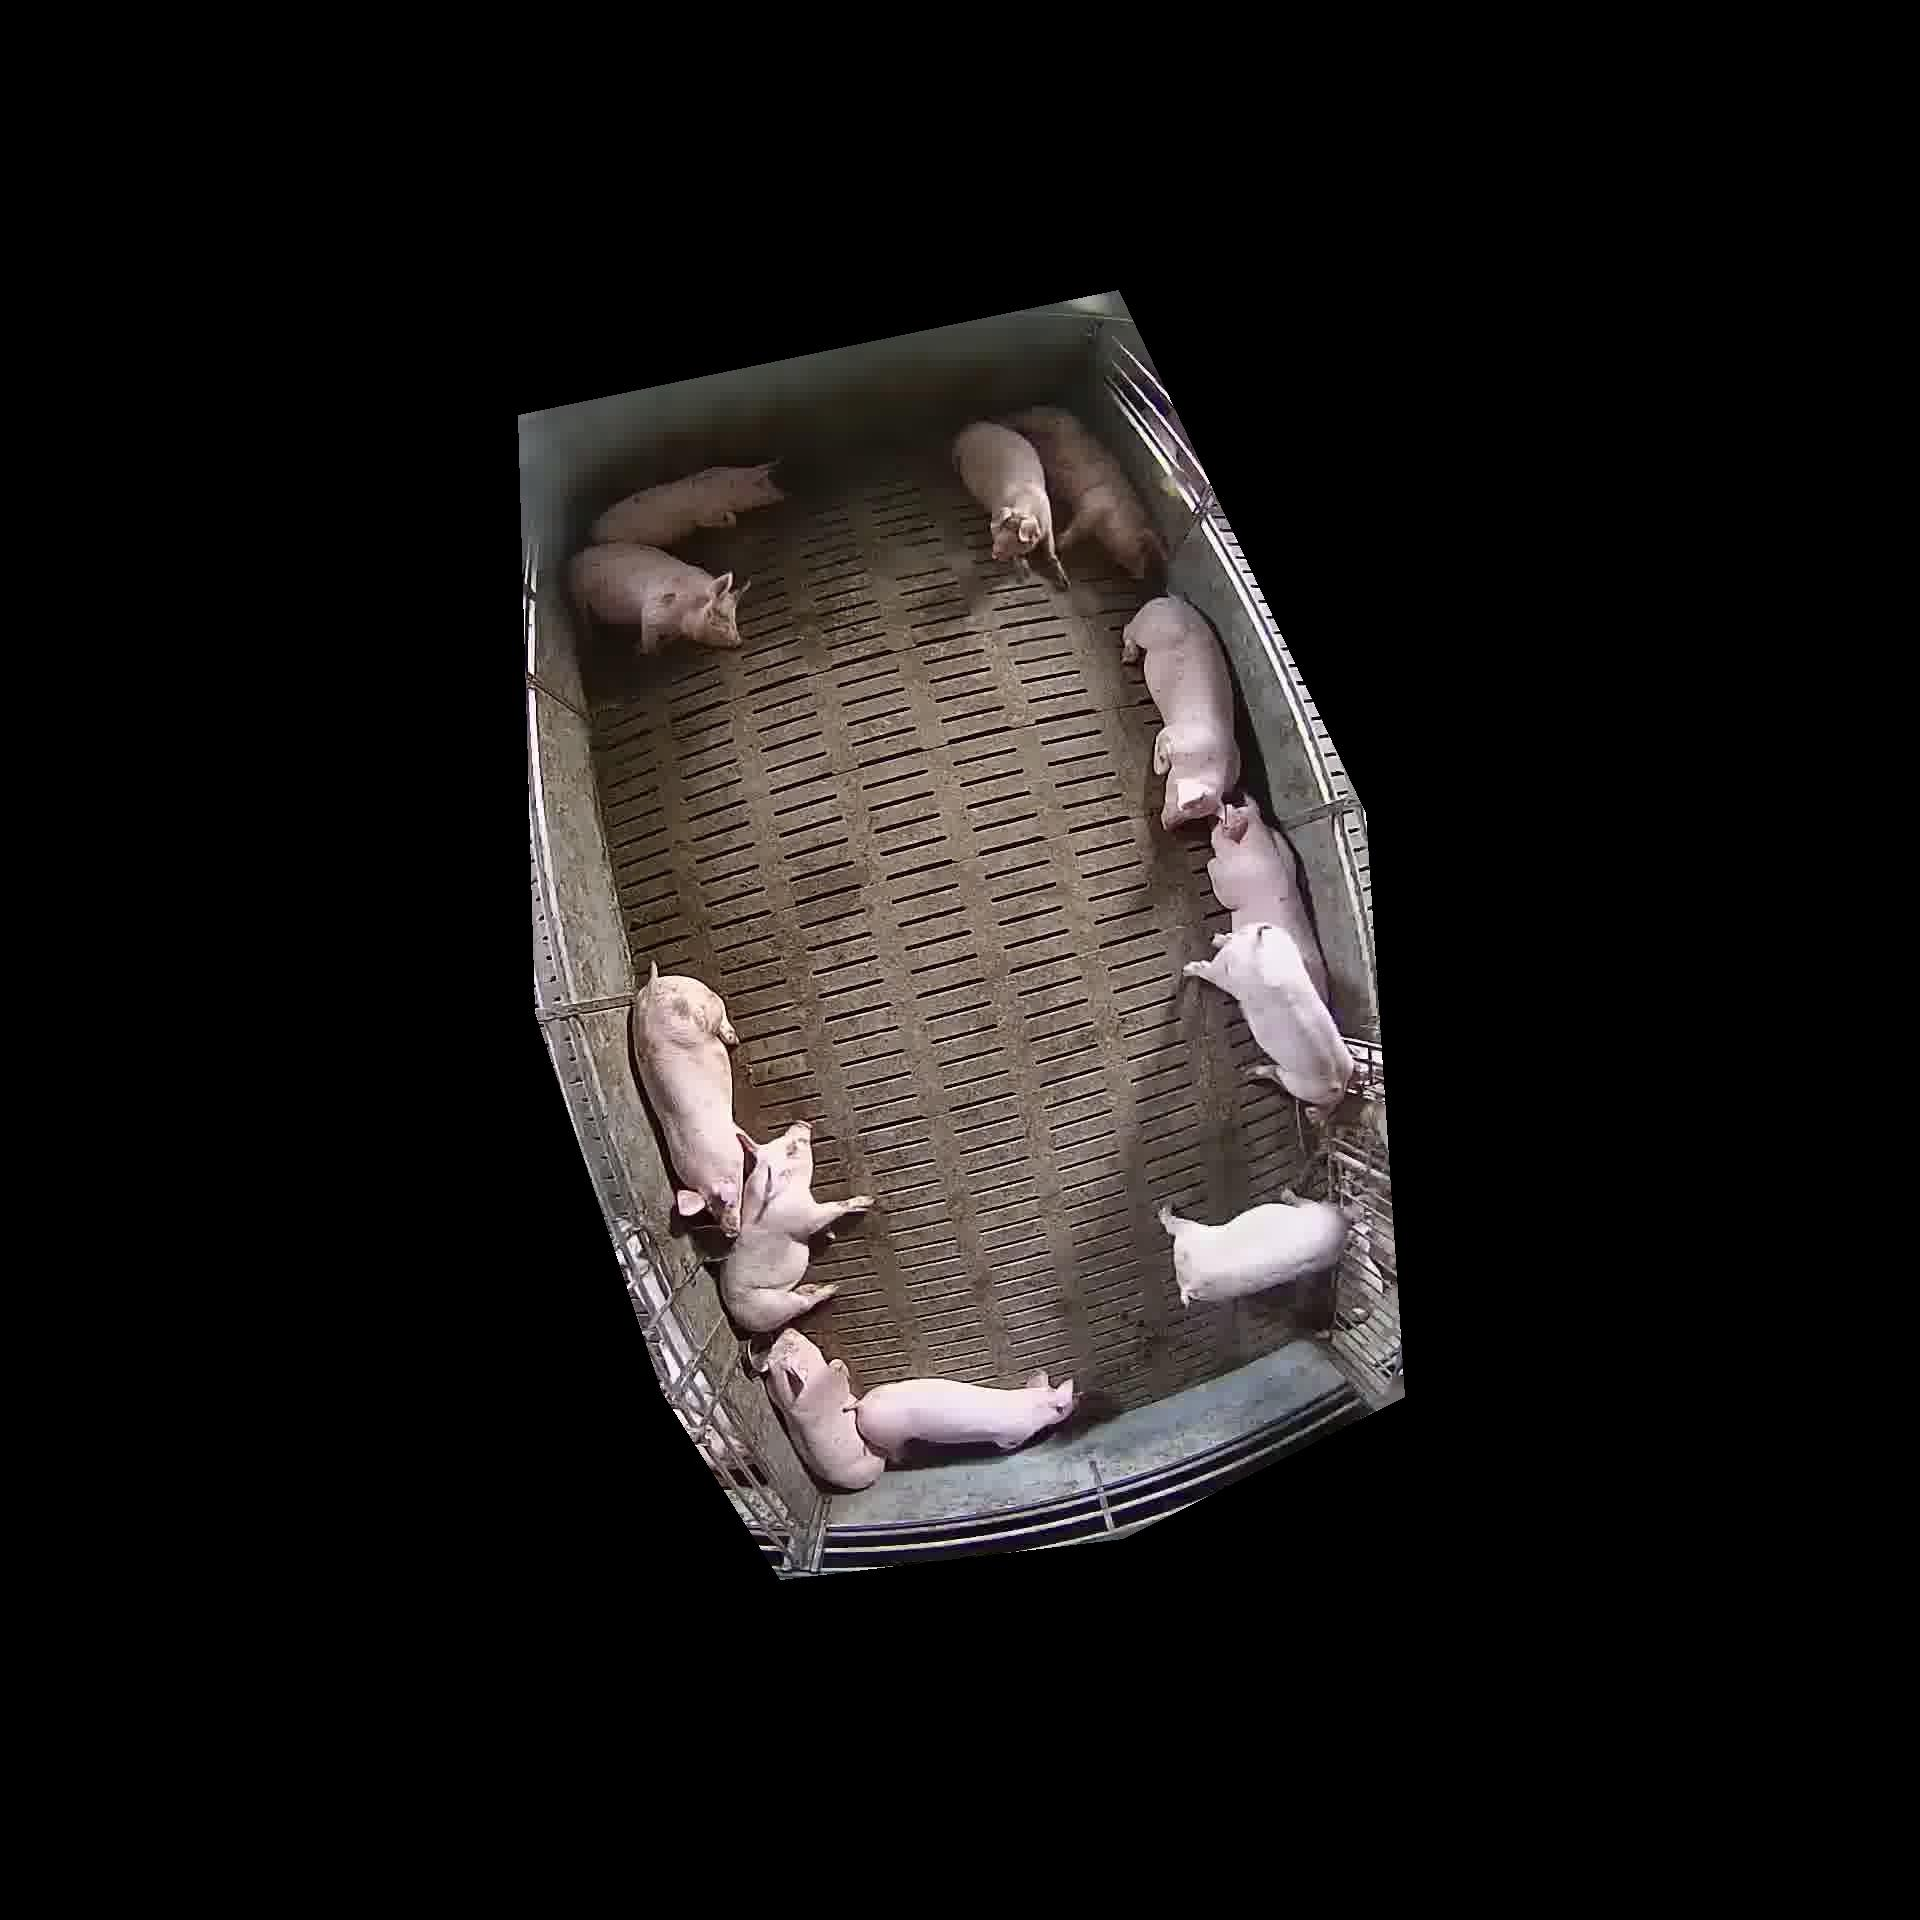pig: (1183, 923, 1350, 1115), (721, 1122, 872, 1333), (631, 965, 744, 1234), (1004, 406, 1166, 577), (1124, 596, 1240, 828), (1208, 796, 1327, 1000), (760, 1327, 884, 1489), (1160, 1197, 1349, 1305), (570, 542, 745, 652), (951, 422, 1065, 587), (856, 1373, 1074, 1458), (591, 462, 782, 547)
